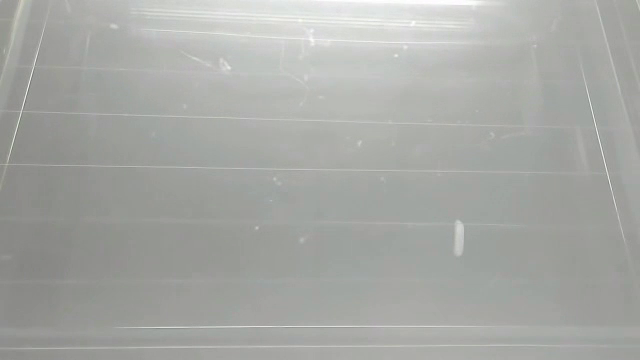alpha: (449, 218, 467, 259), (99, 21, 124, 32)
